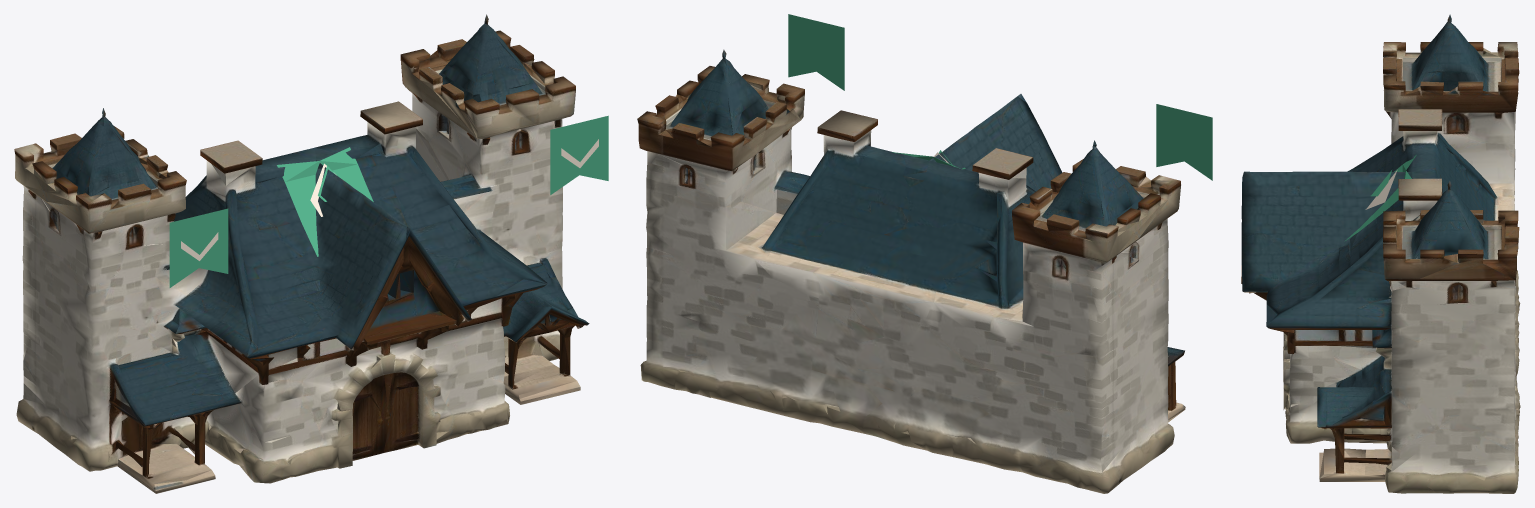
File: barracks.glb
3 renders of one model, left to right at view 1: azimuth 30°, elevation 25°; view 2: azimuth 150°, elevation 25°; view 3: azimuth 270°, elevation 25°, orthographic. The views are drawn at different scales.
Visible parts, largest first — view 1: StructureBody, BannerTeam; view 2: StructureBody, BannerTeam; view 3: StructureBody, BannerTeam.
Boxes of the visible parts, left/top/right/bottom form: StructureBody: left=14, top=14, right=598, bottom=493; BannerTeam: left=169, top=115, right=608, bottom=287; StructureBody: left=637, top=49, right=1185, bottom=493; BannerTeam: left=788, top=14, right=1212, bottom=180; StructureBody: left=1241, top=14, right=1520, bottom=493; BannerTeam: left=1344, top=155, right=1416, bottom=241.
Size of the model in its own units: 7 by 4.5 by 3.89.
2 materials, 1 textured.
